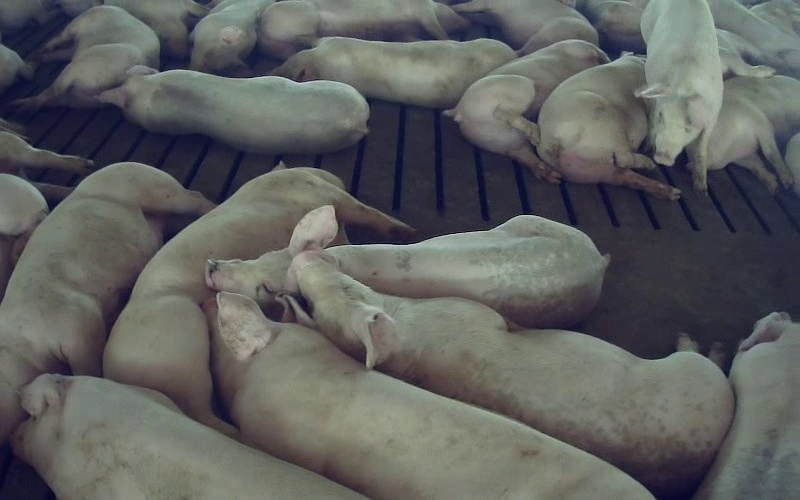pig: (289, 251, 733, 495), (205, 292, 652, 499), (103, 164, 412, 435), (0, 163, 212, 443), (206, 205, 608, 327), (11, 374, 359, 499), (97, 66, 368, 153), (446, 40, 608, 182), (538, 56, 679, 199), (695, 313, 799, 499), (273, 36, 515, 108), (638, 0, 722, 190), (15, 6, 159, 110), (707, 75, 799, 192)
